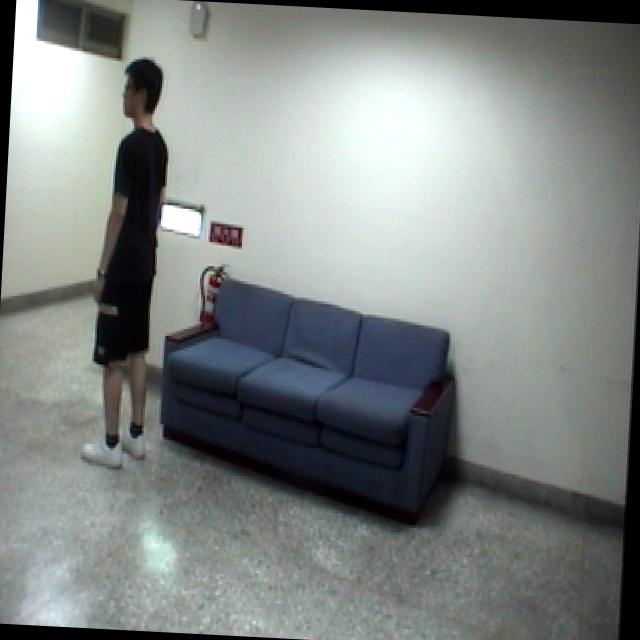stand: (67, 43, 186, 476)
